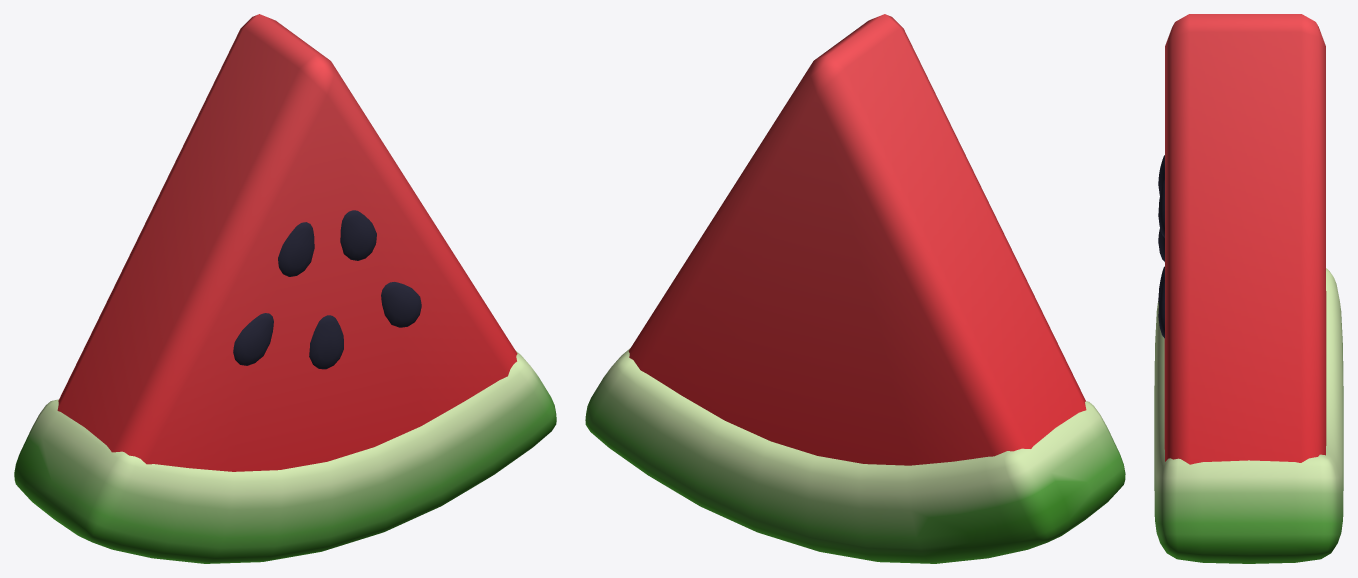
File: watermelon.fbx
The picture shows the model from 3 angles, left to right: view 1: azimuth 30°, elevation 25°; view 2: azimuth 150°, elevation 25°; view 3: azimuth 270°, elevation 25°; orthographic projection.
Visible parts, largest first — view 1: watermelon; view 2: watermelon; view 3: watermelon.
Boxes of the visible parts, x1,y1,x2,y2 form: watermelon: (14, 14, 556, 563); watermelon: (585, 14, 1125, 563); watermelon: (1154, 14, 1343, 563).
Size of the model in its own units: 1.13 by 1.12 by 0.3841.
